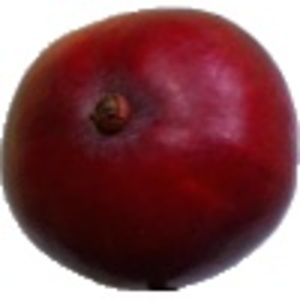manga: (1, 6, 300, 291)
